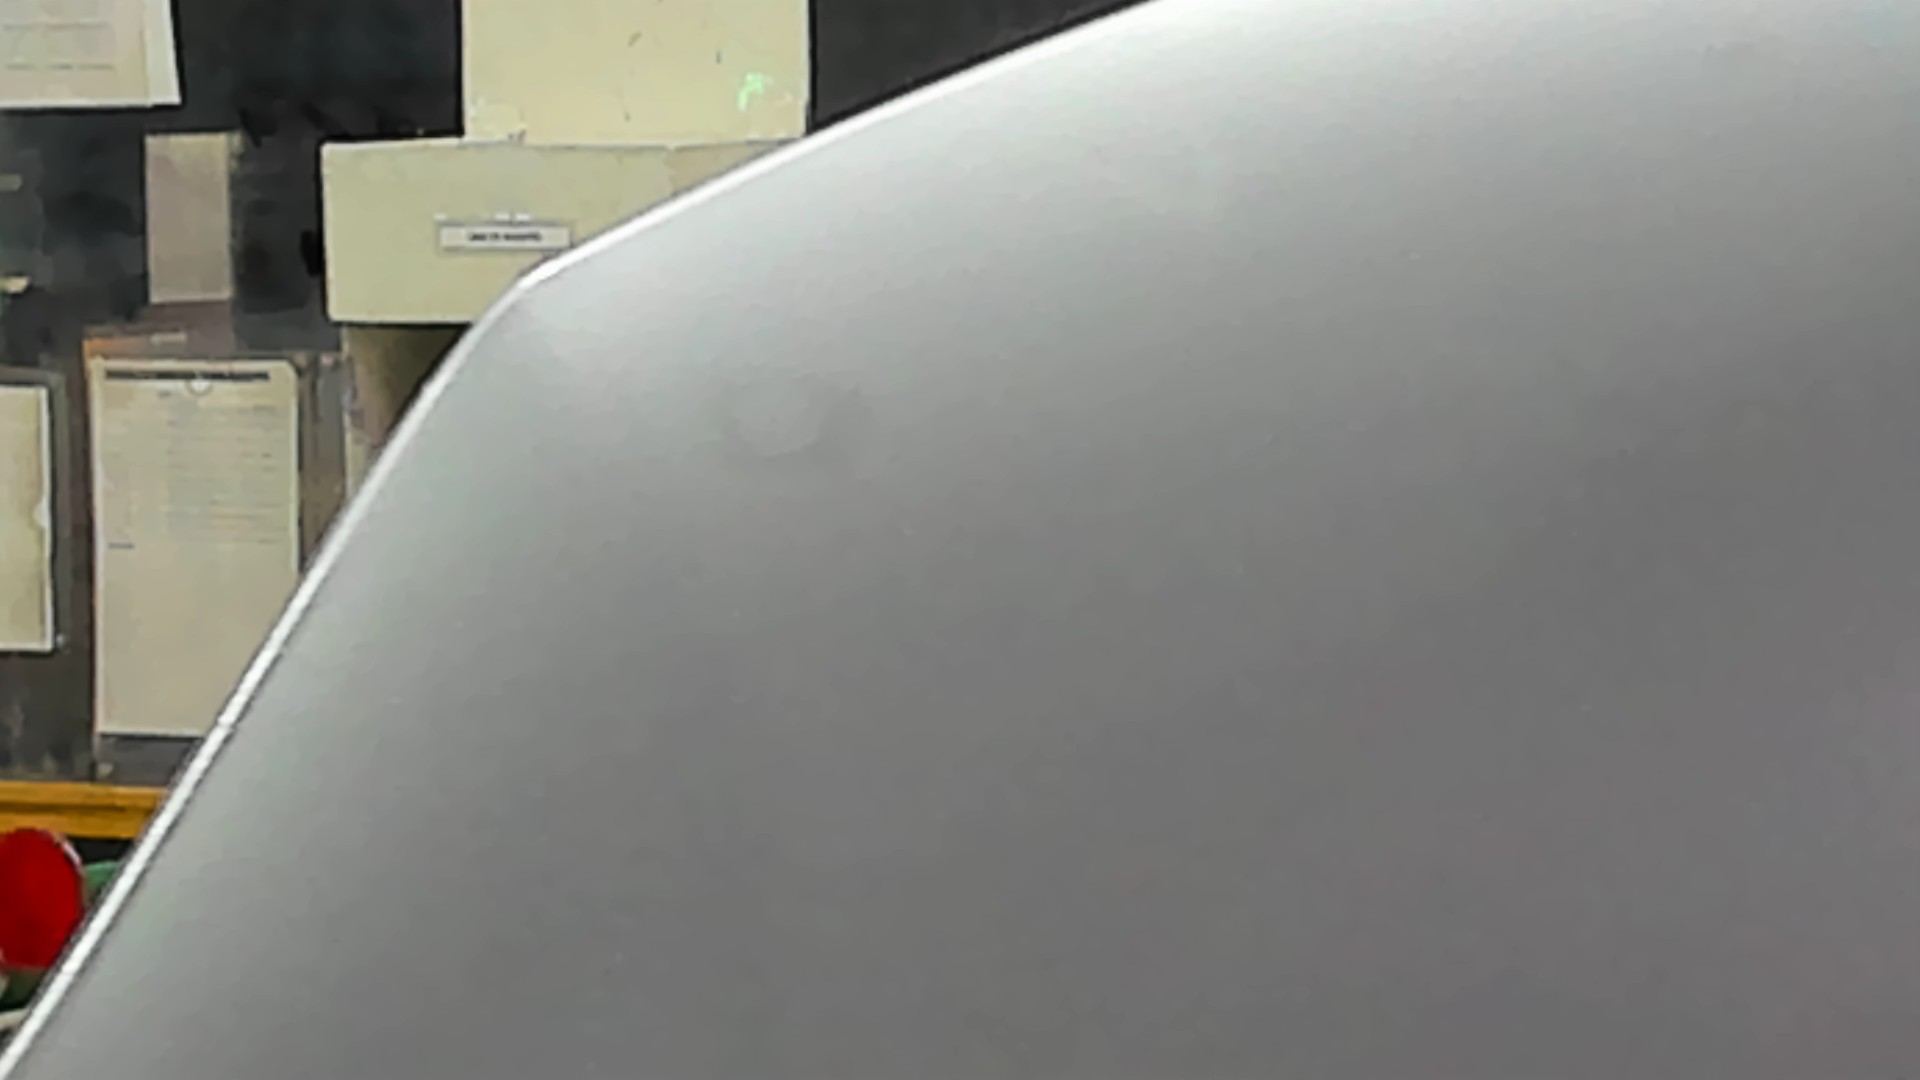capo: (691, 233, 1920, 1080)
